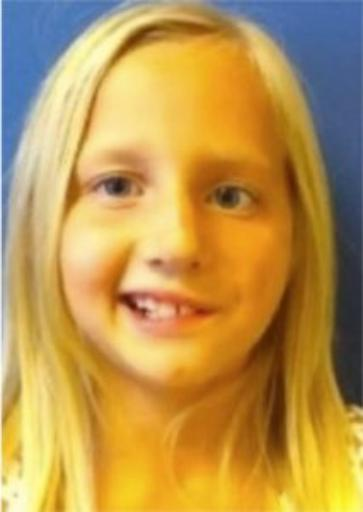left_eye: (205, 187, 261, 218)
left_lip_corner: (207, 298, 227, 326)
right_eye: (87, 175, 148, 204)
right_lip_corner: (114, 285, 132, 317)
